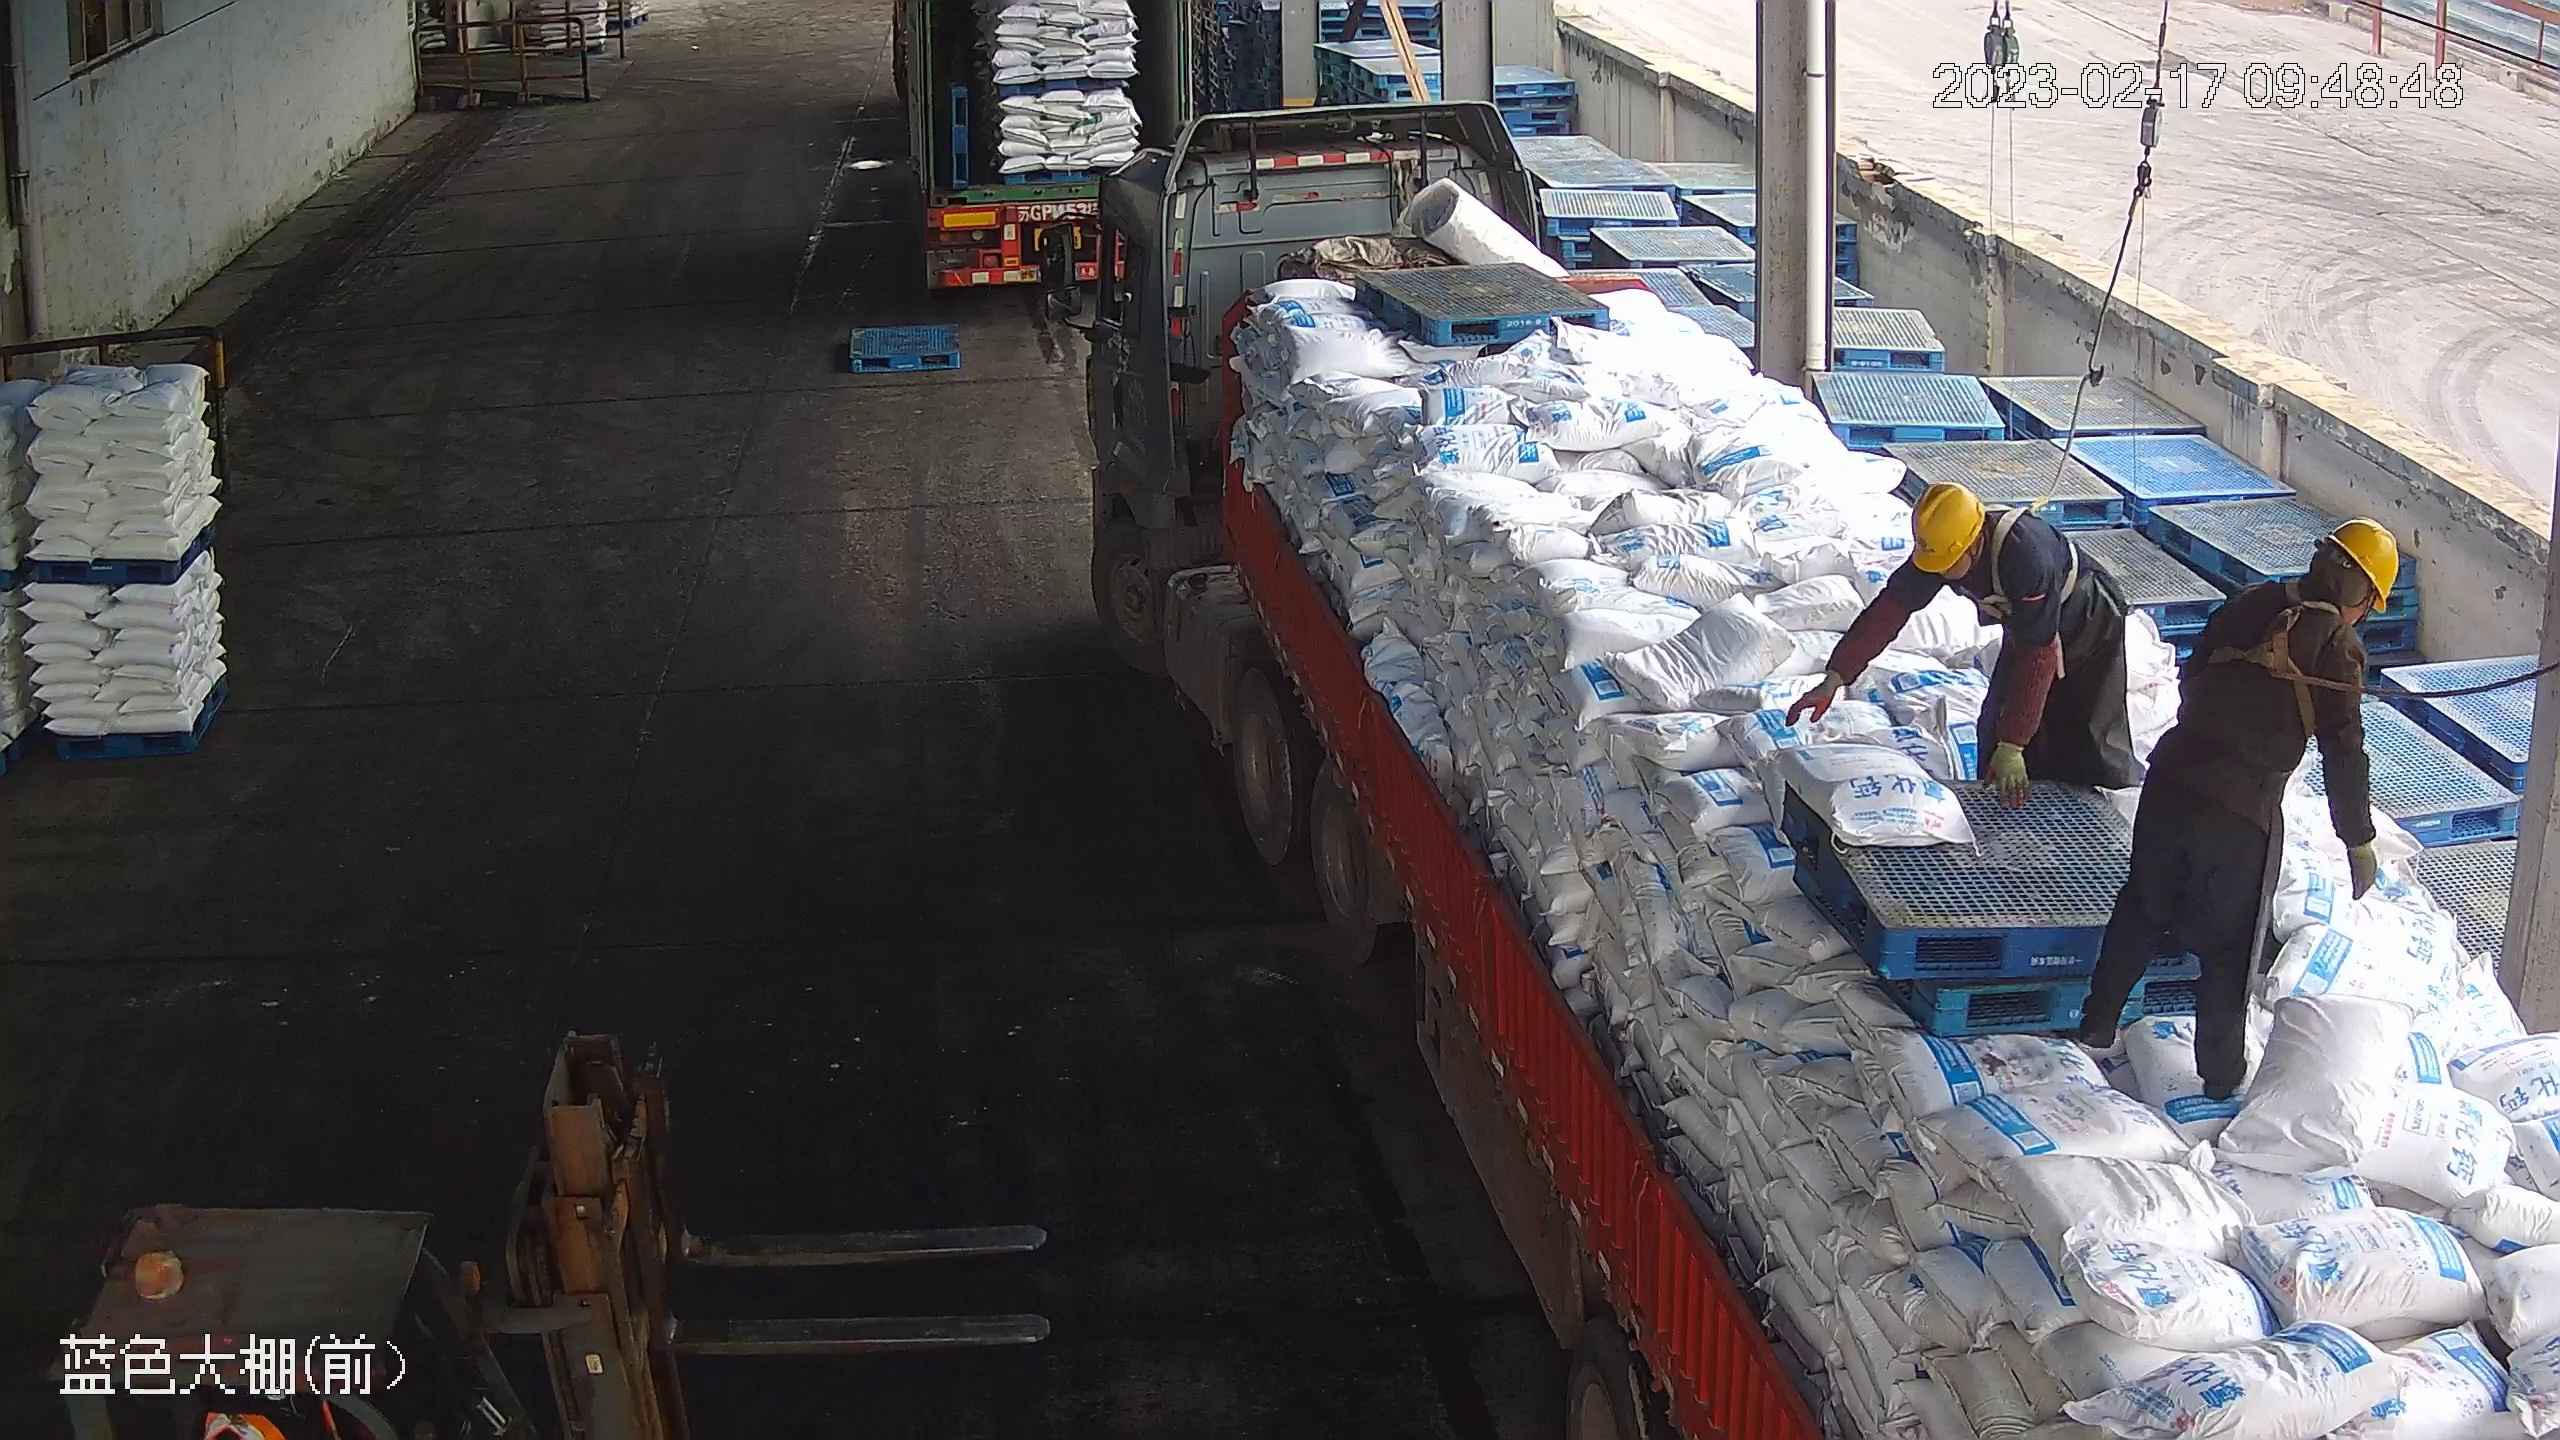belt: (2217, 588, 2355, 704), (1970, 496, 2073, 609)
head: (2215, 517, 2400, 680), (1906, 477, 2049, 615)
helmet: (2321, 513, 2403, 611), (1908, 478, 1985, 575)
people: (2067, 508, 2401, 1101), (1782, 476, 2141, 805)
truck: (1055, 145, 2554, 1433), (877, 1, 1210, 313)
